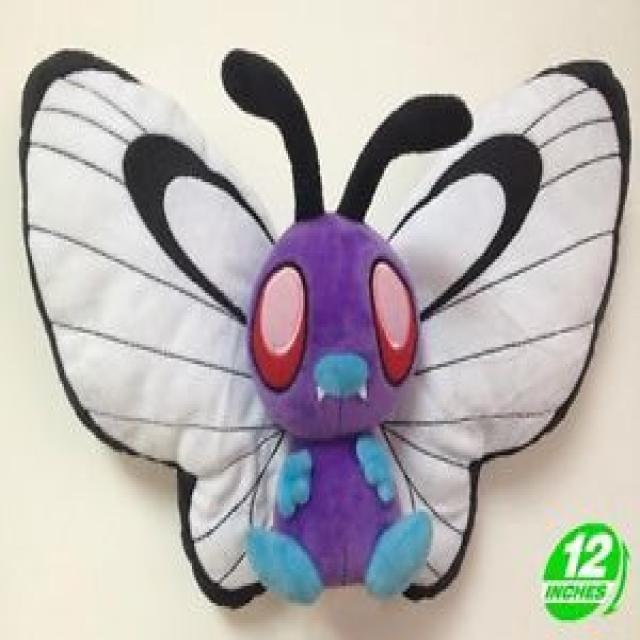Butterfree: (188, 136, 477, 578)
